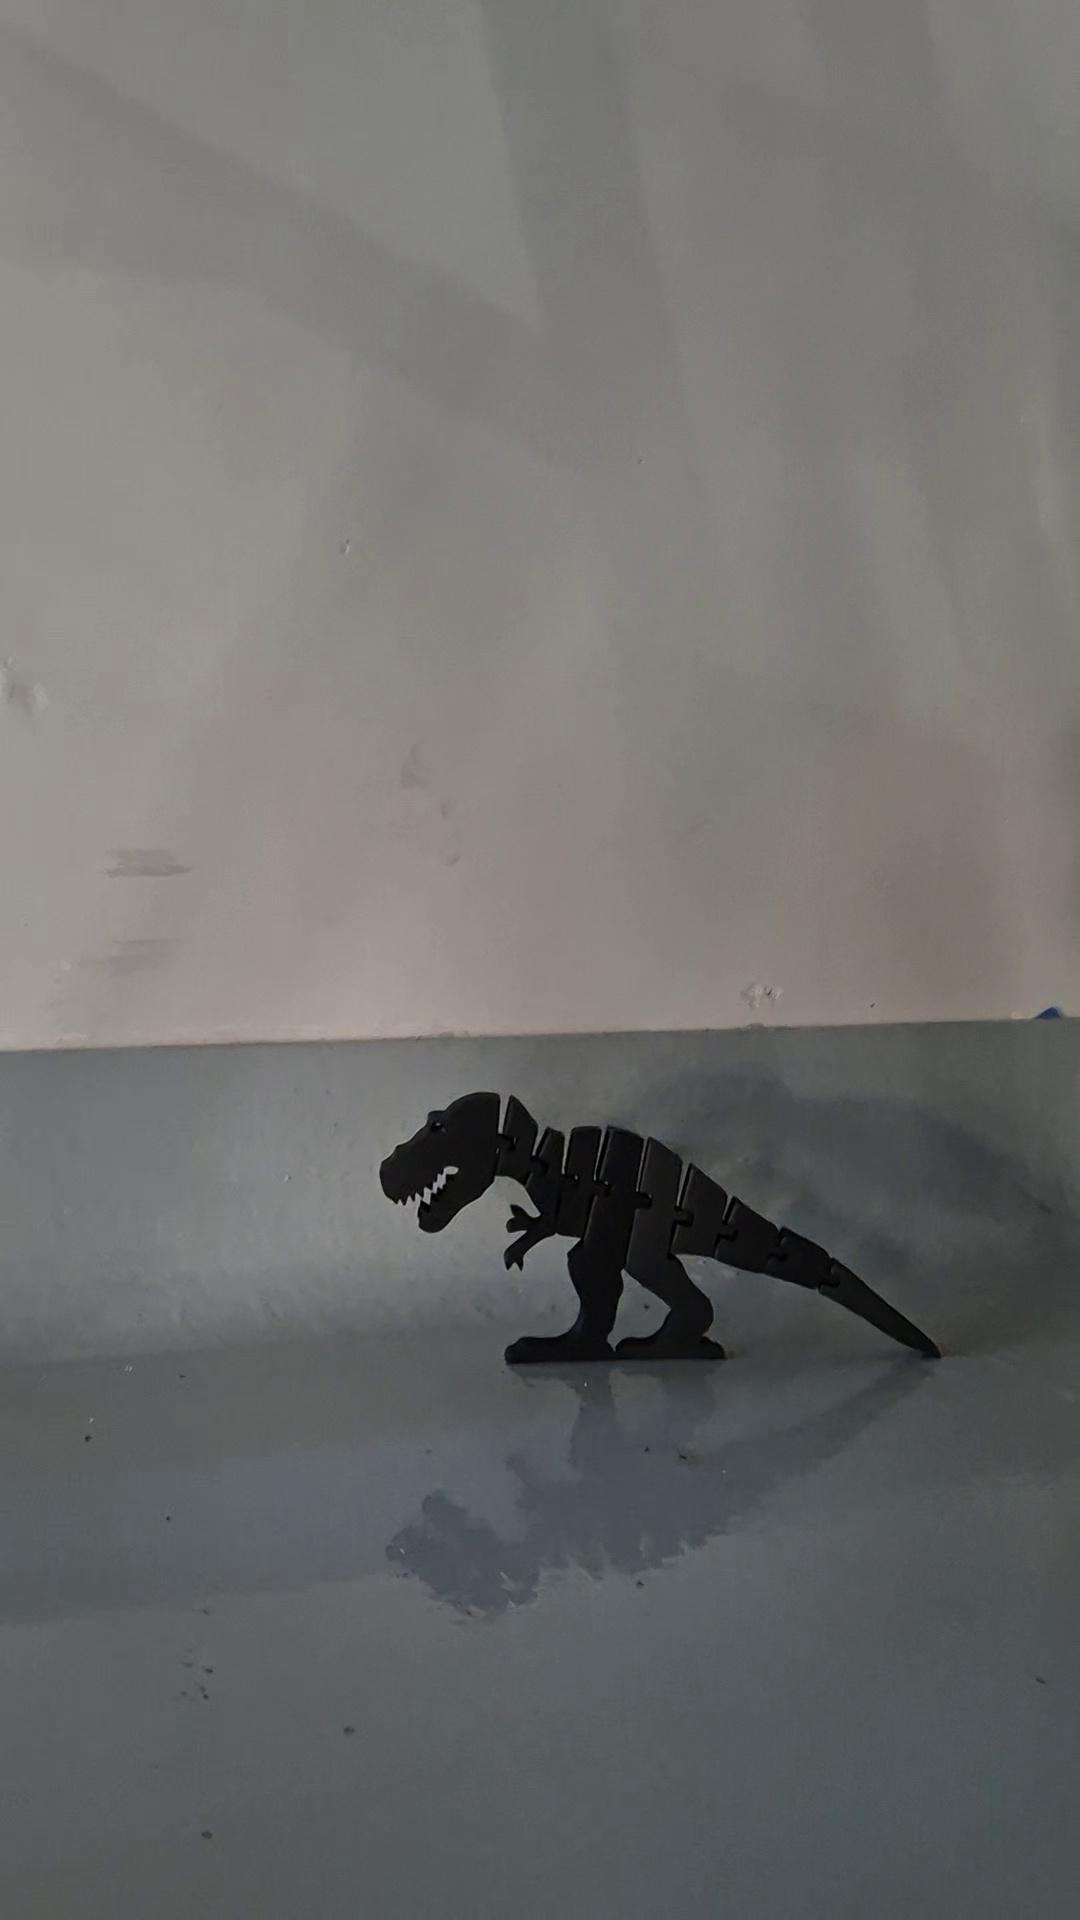dinosaur: (377, 1088, 944, 1364)
